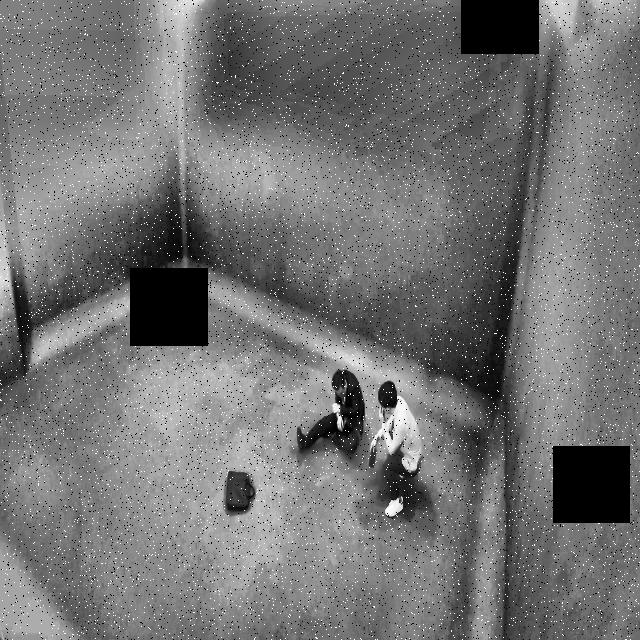assult: (292, 350, 425, 526), (299, 362, 370, 464)
